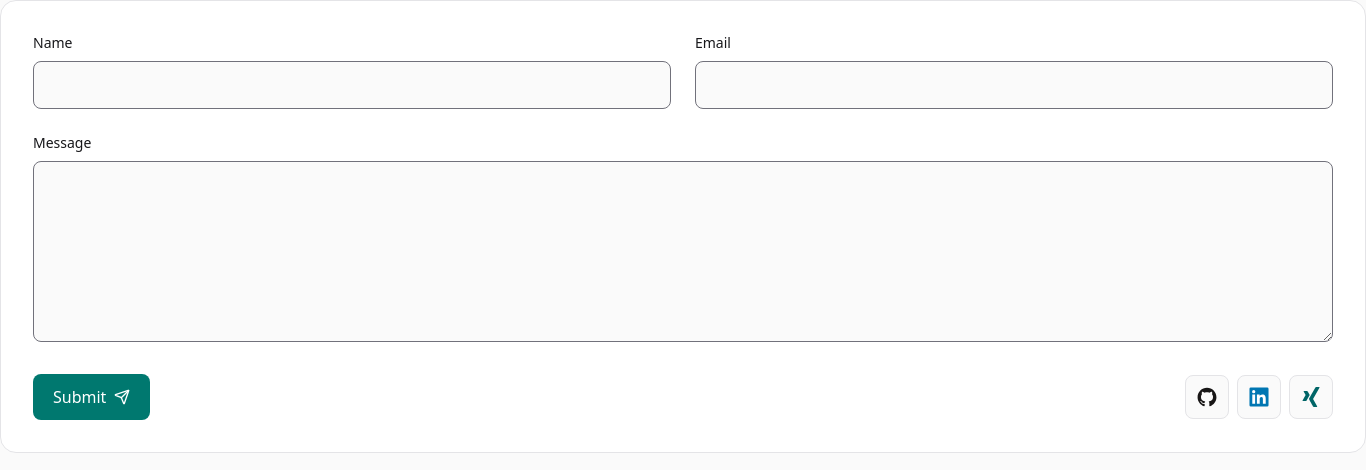
Scenario: ContactForm › says sending is not connected while no endpoint is configured
Type "Alex" into the field with id "contact-name". click: (352, 85)
box: [33, 61, 671, 109]
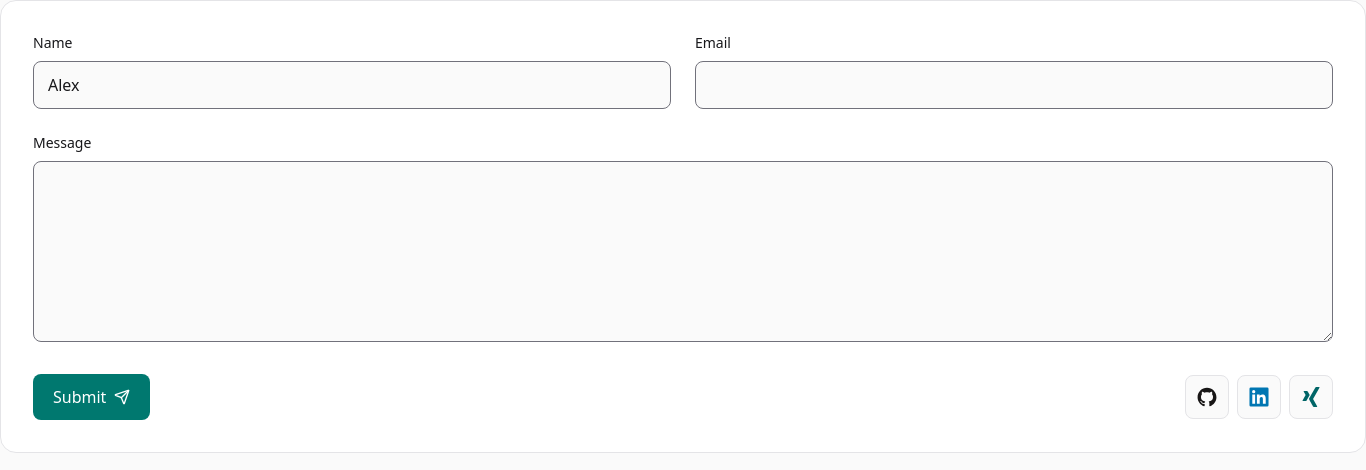
Type "alex@example.com" into the field with id "contact-email". click: (1014, 85)
box: [695, 61, 1333, 109]
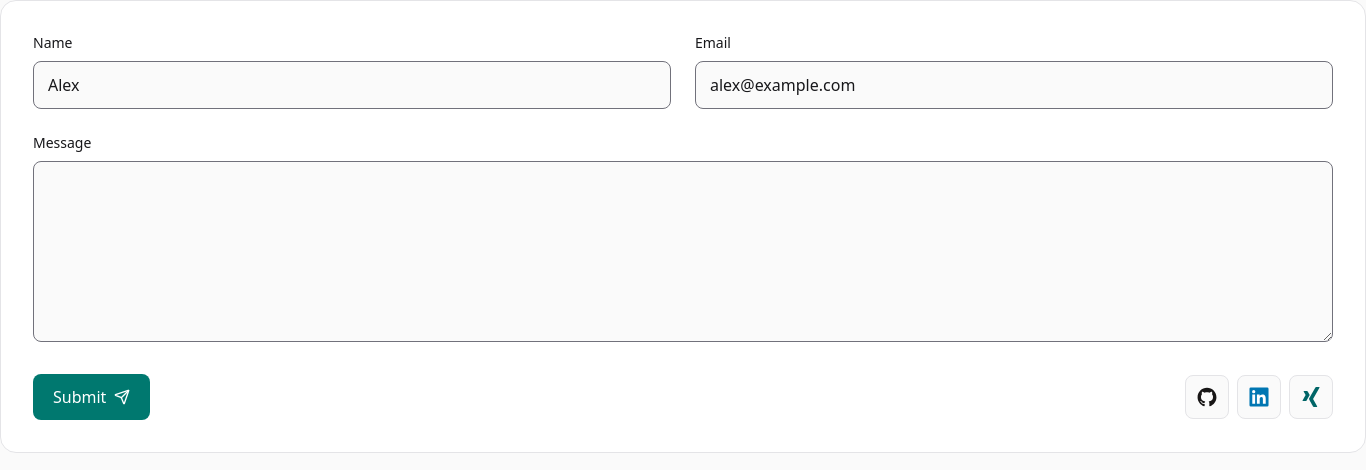
Type "Hello, nice portfolio!" into the text box with id "contact-message". click: (683, 252)
box: [33, 161, 1333, 342]
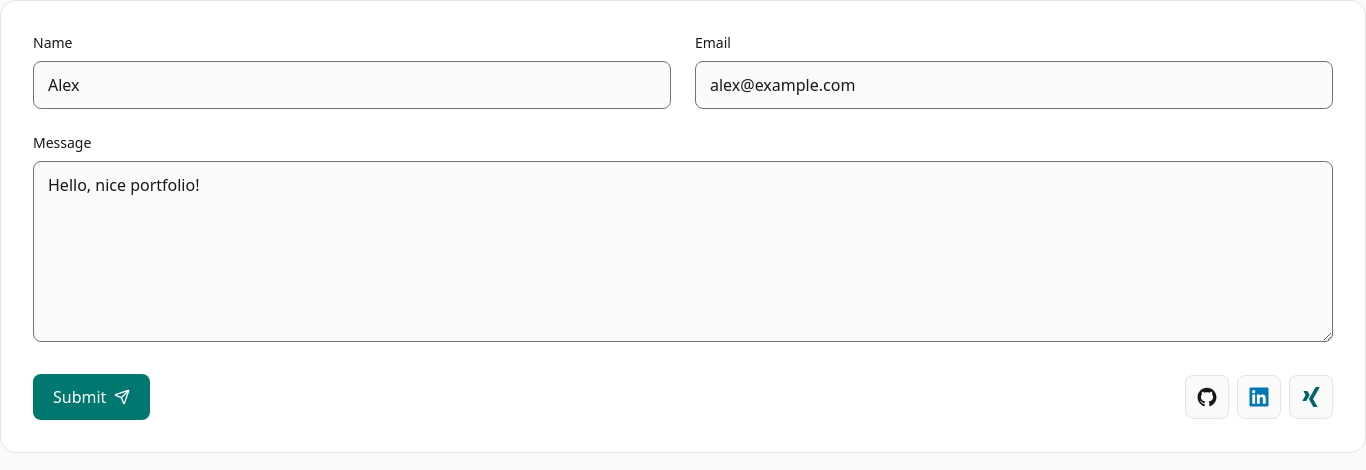
Submit the form
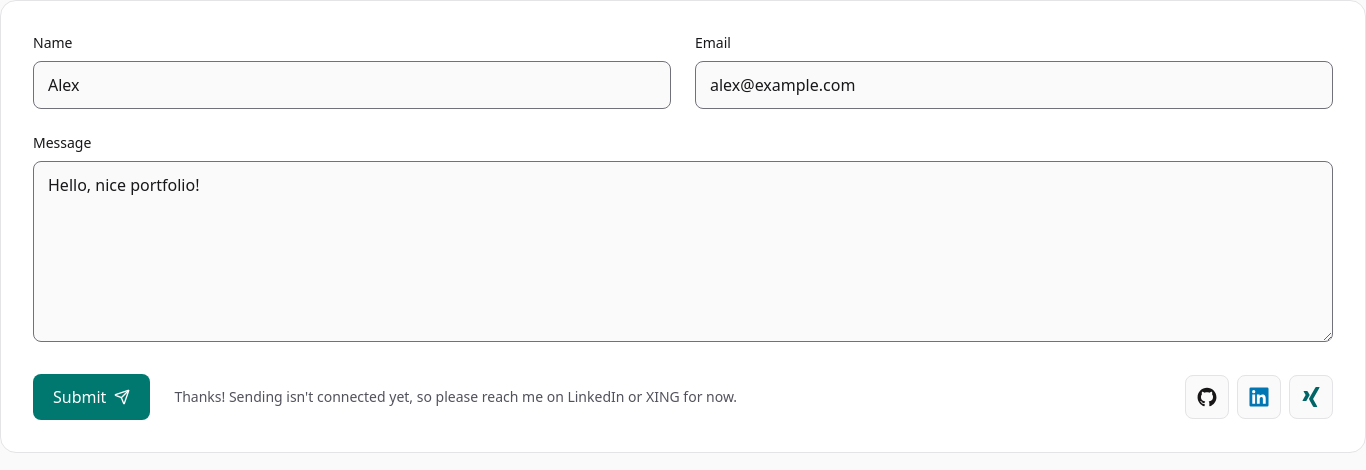
Expected: the message shows "Sending isn't connected yet", [174, 387, 737, 406]
